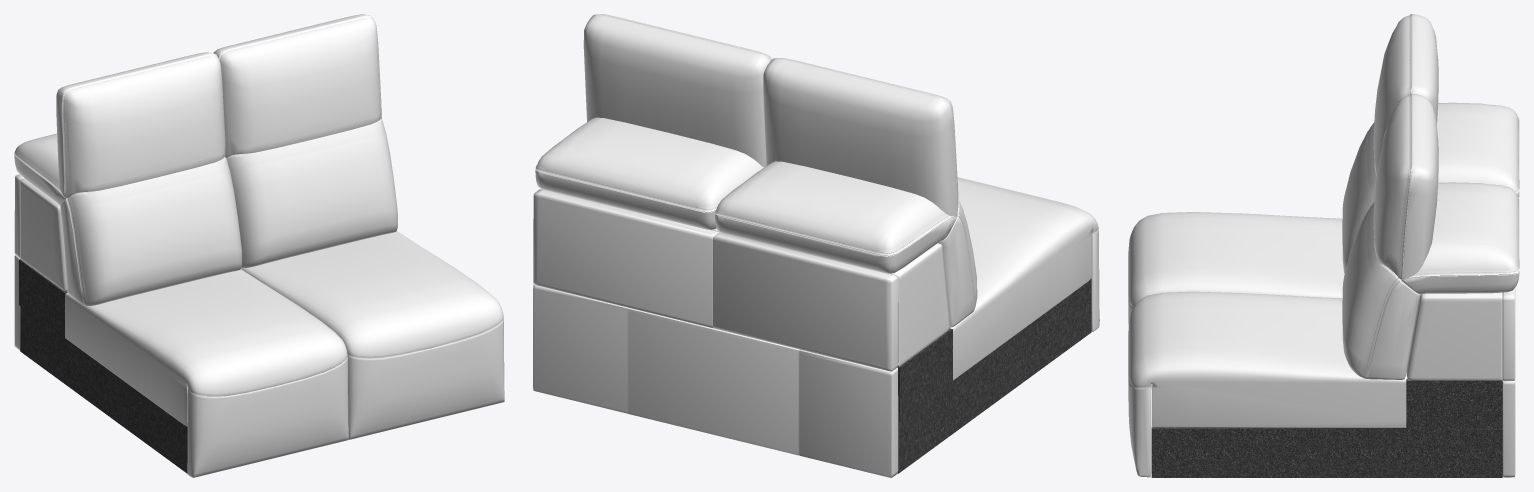
The model's file is BONTON_200.glb.
The picture shows the model from 3 angles, left to right: view 1: azimuth 30°, elevation 25°; view 2: azimuth 150°, elevation 25°; view 3: azimuth 270°, elevation 25°; orthographic projection. The views are drawn at different scales.
Parts seen in each view (by area): view 1: SEAT029, BACK031, SEAT030, BACK033, BACK030, COVERING039, BACK032, BACKSUPPORT001, COVERING040, SHELL021; view 2: SHELL021, BACK031, BACK033, SEAT029, BACK030, BACK032, COVERING039, BACKSUPPORT001, COVERING040; view 3: SEAT030, COVERING039, SEAT029, BACK033, BACK032, BACKSUPPORT001, BACK031, BACK030, COVERING040, SHELL021.
Part boxes in pixels (bbox=[...]): SEAT029: bbox=[65, 269, 348, 477]; BACK031: bbox=[56, 52, 241, 304]; SEAT030: bbox=[241, 231, 504, 439]; BACK033: bbox=[213, 14, 397, 248]; BACK030: bbox=[14, 133, 241, 305]; COVERING039: bbox=[20, 306, 187, 473]; BACK032: bbox=[226, 119, 397, 267]; BACKSUPPORT001: bbox=[20, 178, 67, 291]; COVERING040: bbox=[19, 259, 67, 338]; SHELL021: bbox=[14, 174, 24, 350]; SHELL021: bbox=[533, 189, 898, 477]; BACK031: bbox=[763, 58, 976, 327]; BACK033: bbox=[583, 14, 771, 167]; SEAT029: bbox=[897, 177, 1099, 380]; BACK030: bbox=[715, 161, 977, 322]; BACK032: bbox=[535, 117, 763, 229]; COVERING039: bbox=[898, 278, 1091, 473]; BACKSUPPORT001: bbox=[542, 189, 950, 366]; COVERING040: bbox=[897, 328, 952, 420]; SEAT030: bbox=[1128, 291, 1406, 477]; COVERING039: bbox=[1151, 427, 1502, 477]; SEAT029: bbox=[1128, 212, 1344, 326]; BACK033: bbox=[1342, 93, 1438, 379]; BACK032: bbox=[1342, 182, 1519, 379]; BACKSUPPORT001: bbox=[1406, 292, 1502, 380]; BACK031: bbox=[1342, 14, 1438, 262]; BACK030: bbox=[1342, 102, 1519, 273]; COVERING040: bbox=[1406, 379, 1502, 428]; SHELL021: bbox=[1502, 288, 1515, 477].
Size of the model in its own units: 1.12 by 0.9896 by 1.14.
Materials: 6 (2 with a texture image).
